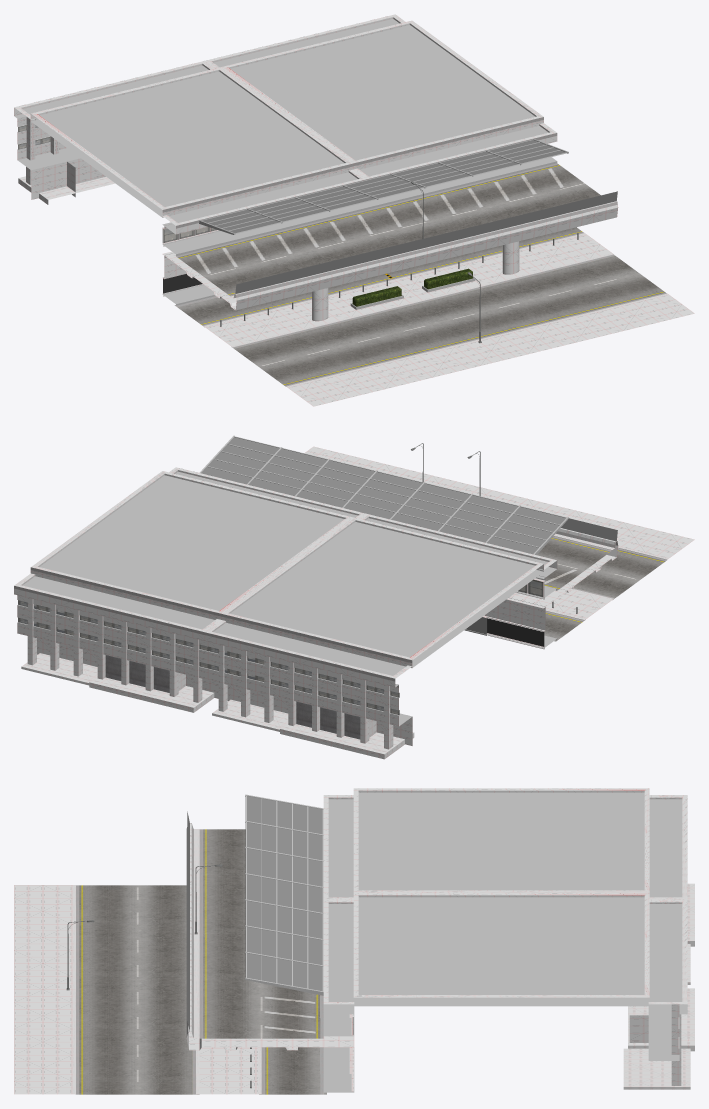
Rendered from terminal_01_a.FBX.
The picture shows the model from 3 angles, top to bottom: view 1: azimuth 30°, elevation 25°; view 2: azimuth 150°, elevation 25°; view 3: azimuth 270°, elevation 25°; orthographic projection. The views are drawn at different scales.
Visible parts, largest first — view 1: terminal_01_a, misc_b, misc_a; view 2: terminal_01_a, misc_b; view 3: terminal_01_a, misc_b.
Boxes of the visible parts, bbox=[...] form: terminal_01_a: bbox=[14, 14, 694, 406]; misc_b: bbox=[199, 139, 568, 234]; misc_a: bbox=[220, 181, 578, 343]; terminal_01_a: bbox=[14, 446, 694, 759]; misc_b: bbox=[199, 435, 568, 555]; terminal_01_a: bbox=[14, 788, 694, 1094]; misc_b: bbox=[245, 794, 323, 995].
Bounding box in the file's own units: 160 × 44.71 × 220.
